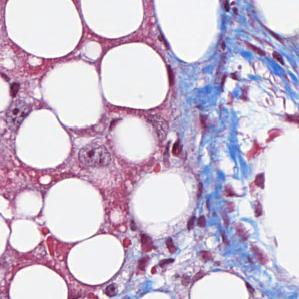inflammation: (126, 229, 186, 279), (160, 133, 189, 174)
